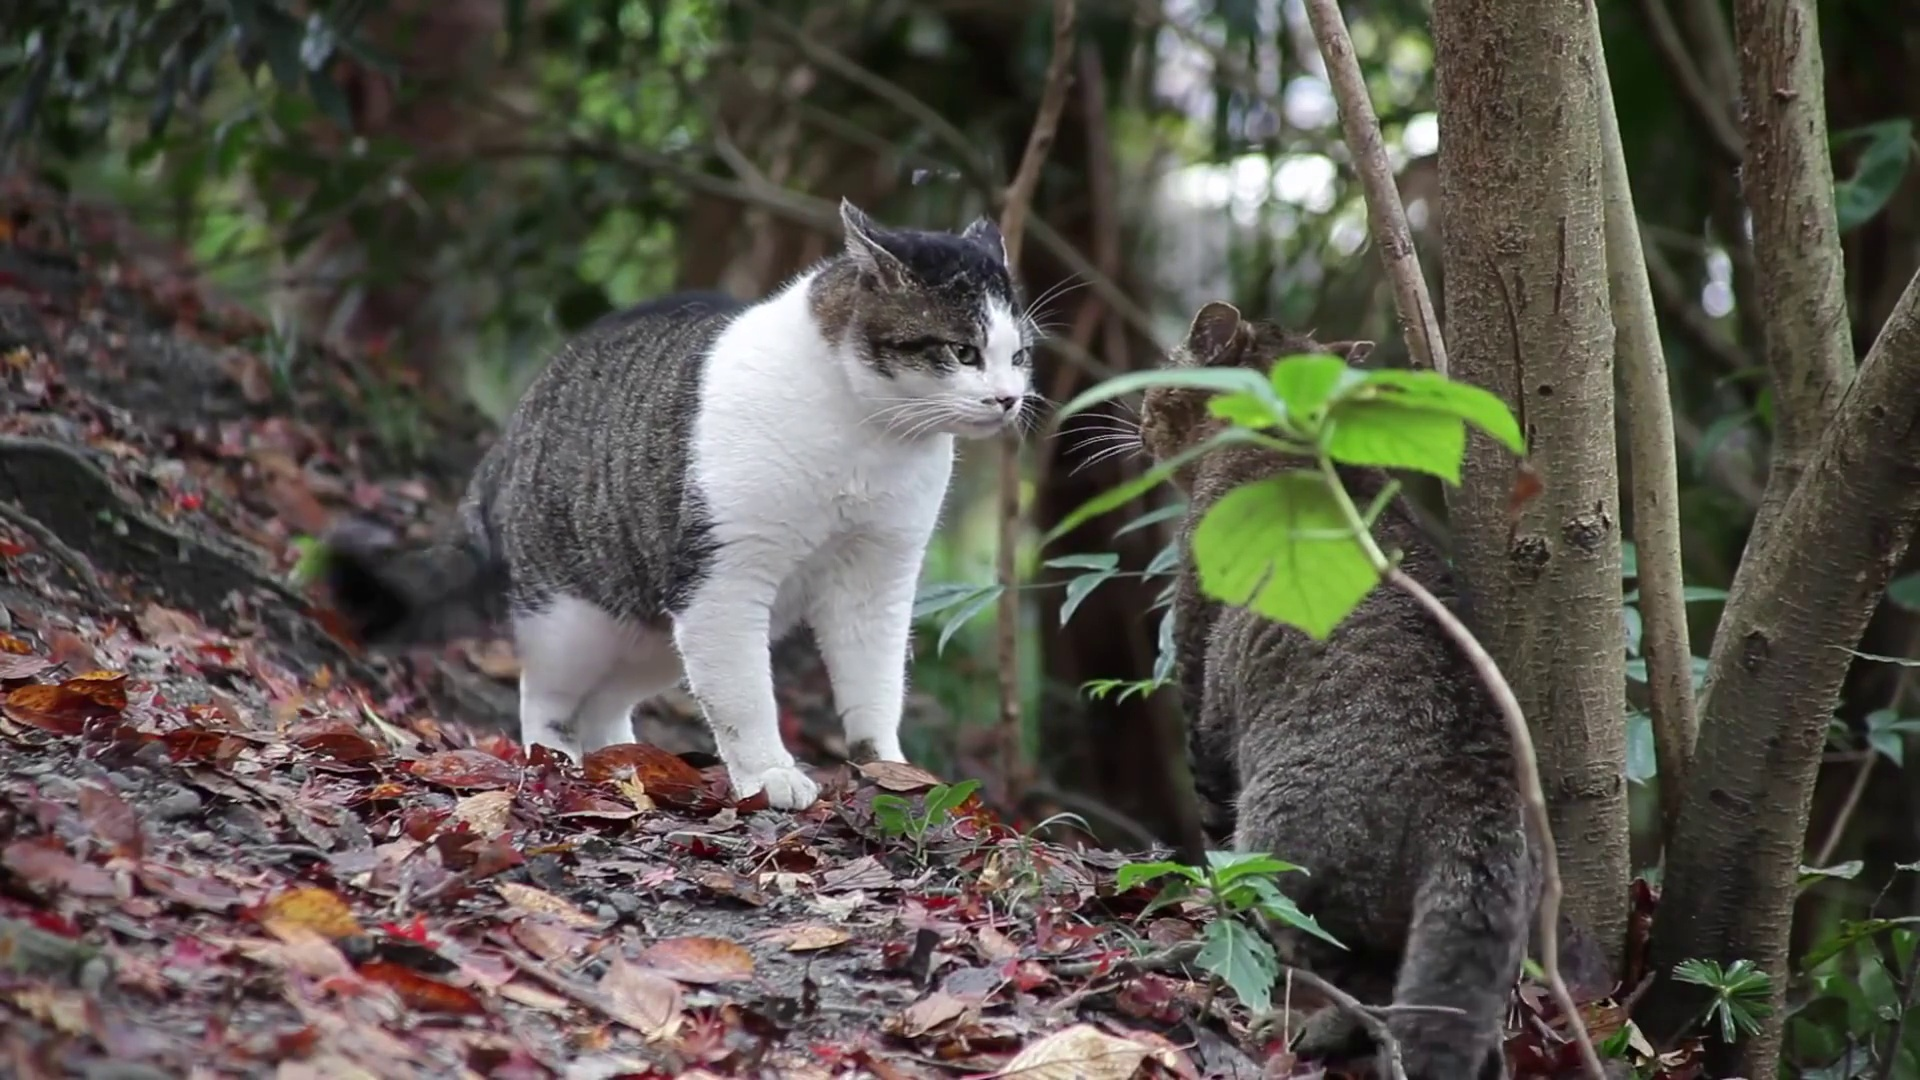black-white: (323, 196, 1033, 810)
pure black: (1133, 301, 1530, 1080)
